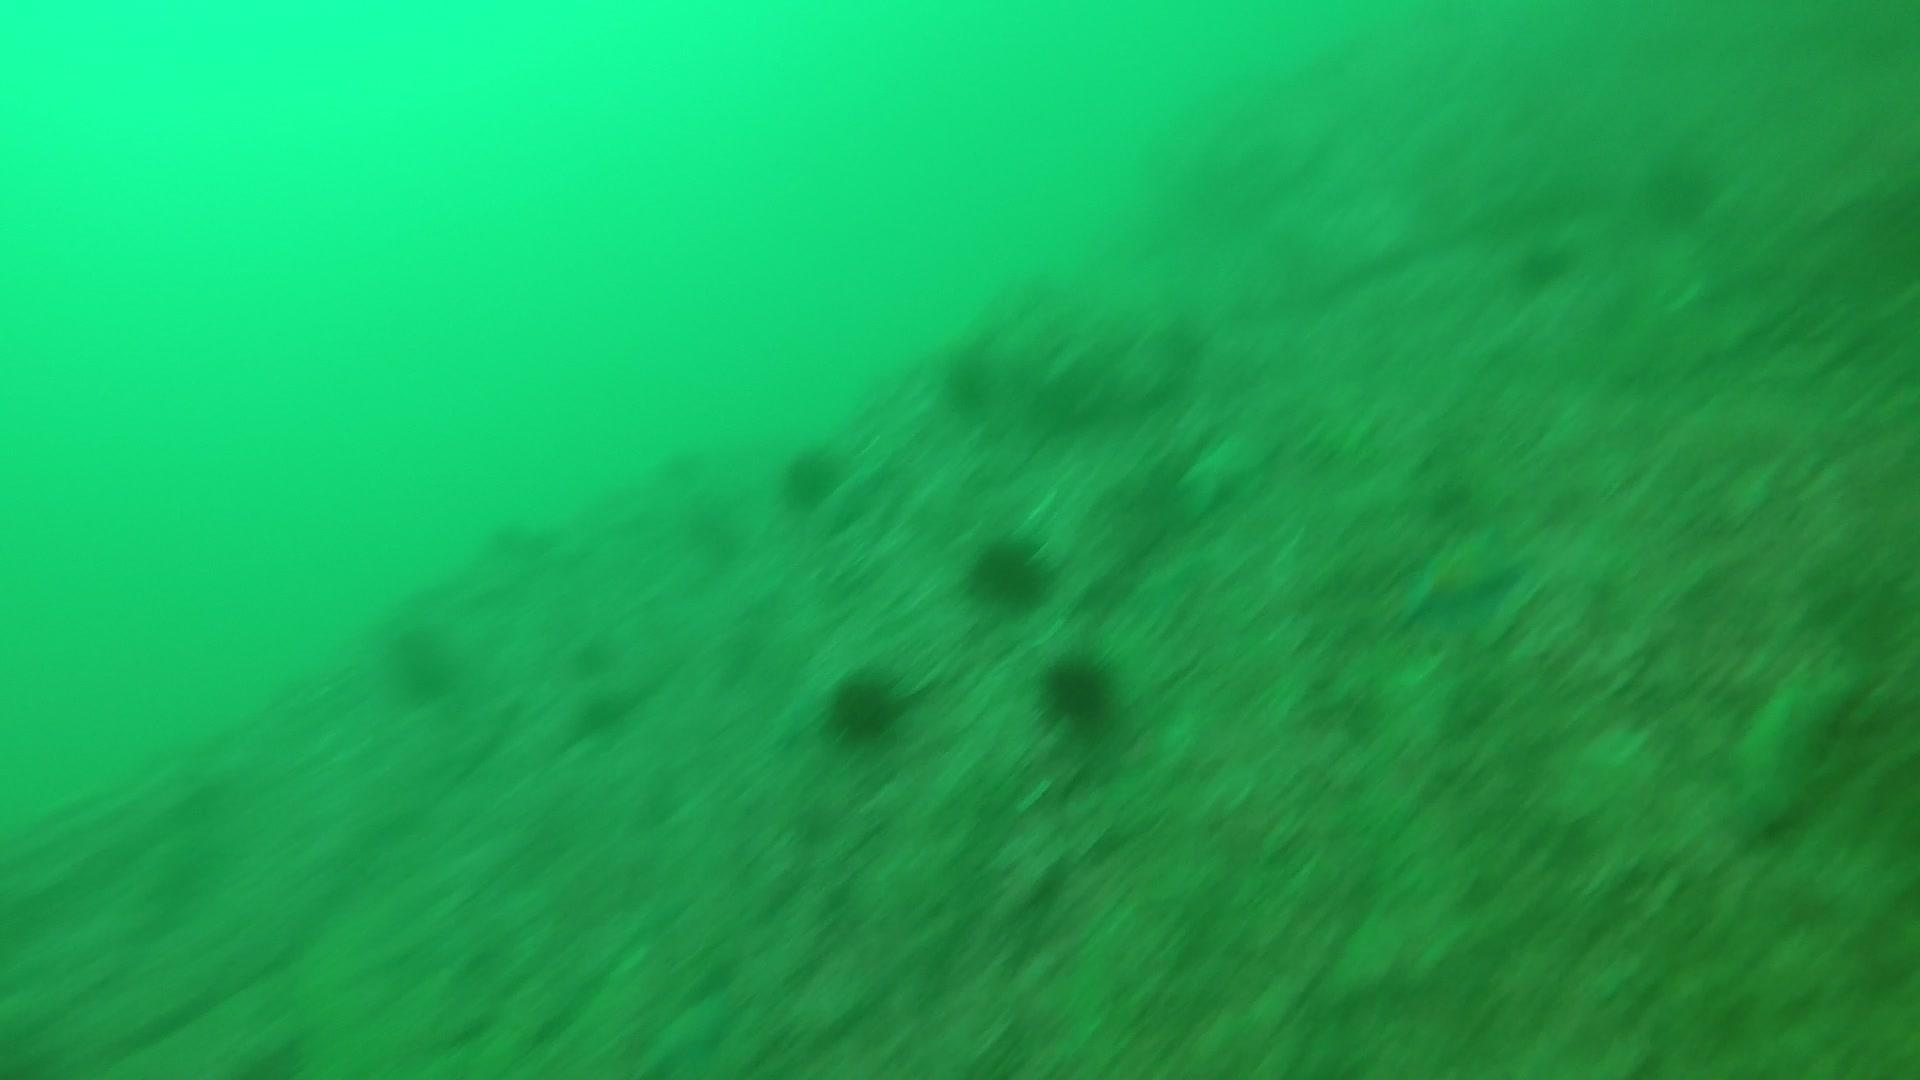echinus: (960, 527, 1056, 613), (818, 663, 913, 749), (1033, 646, 1124, 735), (377, 615, 465, 703), (1639, 142, 1724, 228), (775, 439, 848, 512), (935, 338, 1002, 414), (678, 495, 745, 563), (1509, 233, 1577, 294), (568, 624, 618, 678), (578, 692, 628, 746)
starfish: (1721, 657, 1866, 833), (1396, 524, 1528, 640), (636, 976, 746, 1075)
